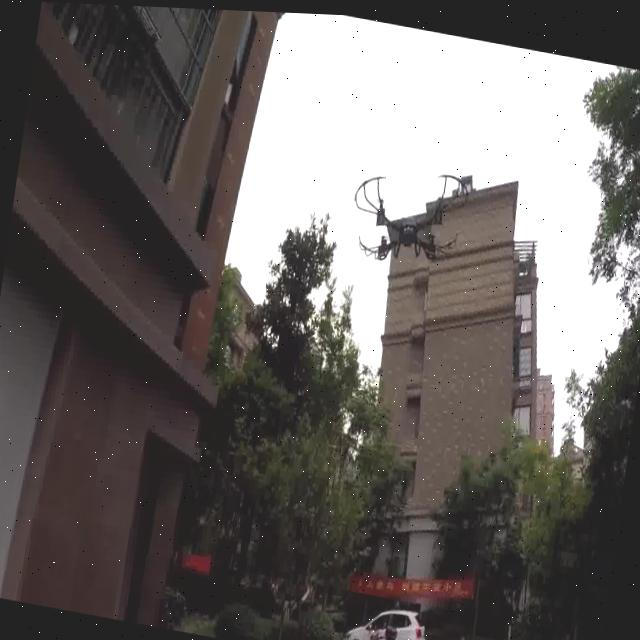drone: (334, 146, 488, 294)
